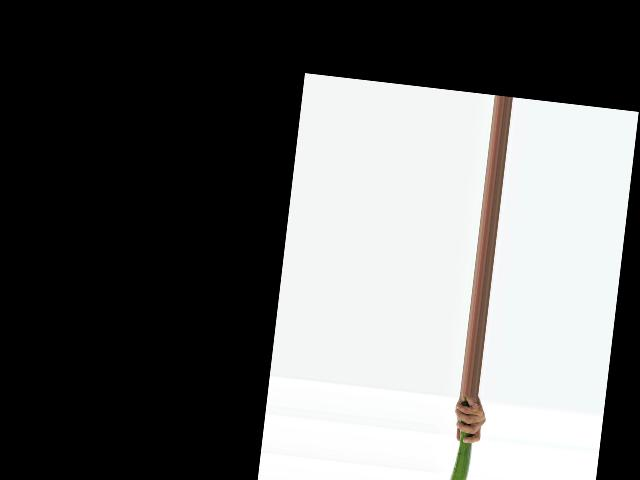cucumber: (446, 396, 477, 480)
